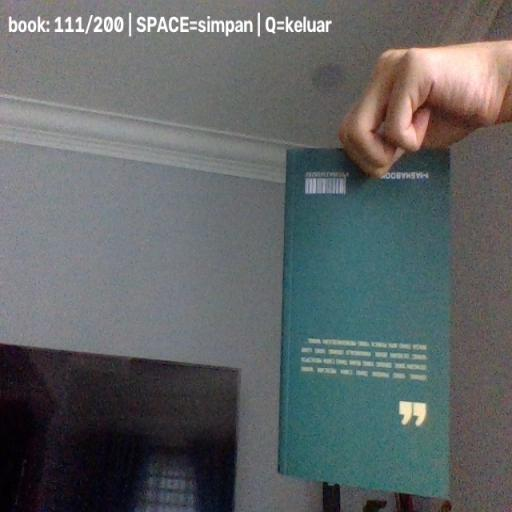Book: (278, 147, 451, 500)
